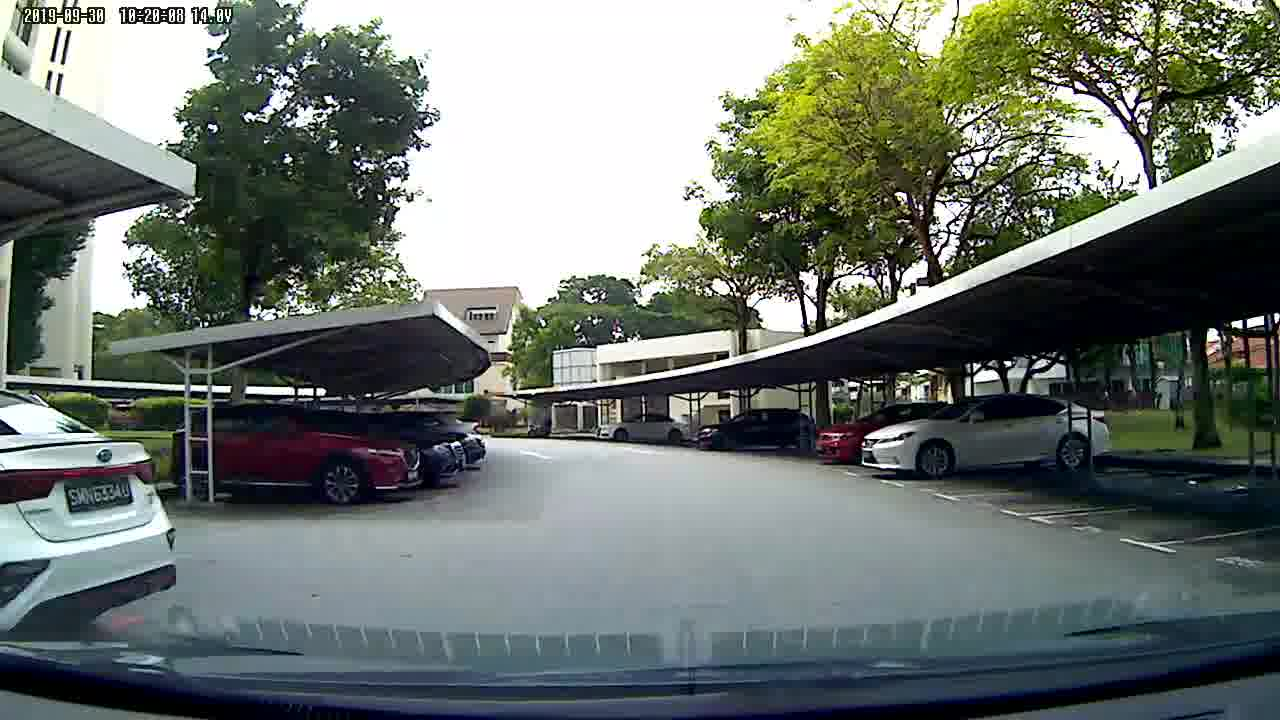car: (1, 386, 181, 642), (164, 391, 496, 518), (859, 391, 1114, 482), (696, 407, 818, 460), (587, 412, 691, 449)
